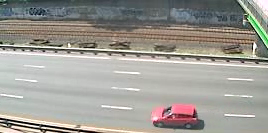car: (148, 101, 201, 131)
